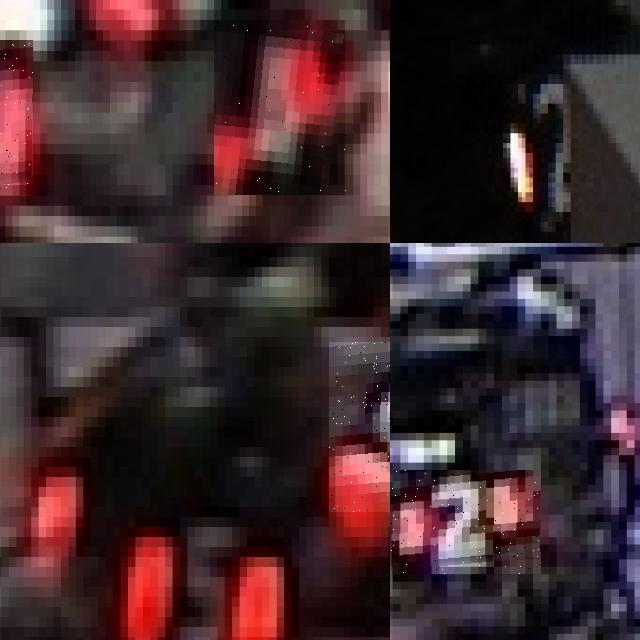R2: (390, 470, 540, 574)
R4: (215, 20, 346, 195), (0, 40, 33, 195)
R5: (98, 492, 299, 640), (329, 342, 390, 512)
